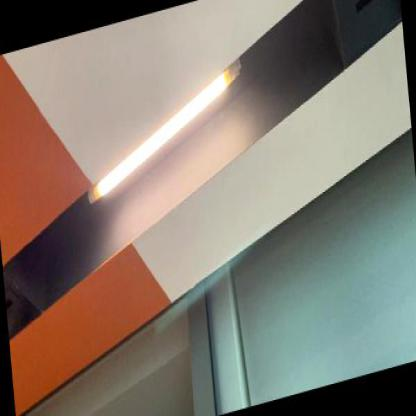light_on: (73, 45, 258, 226)
